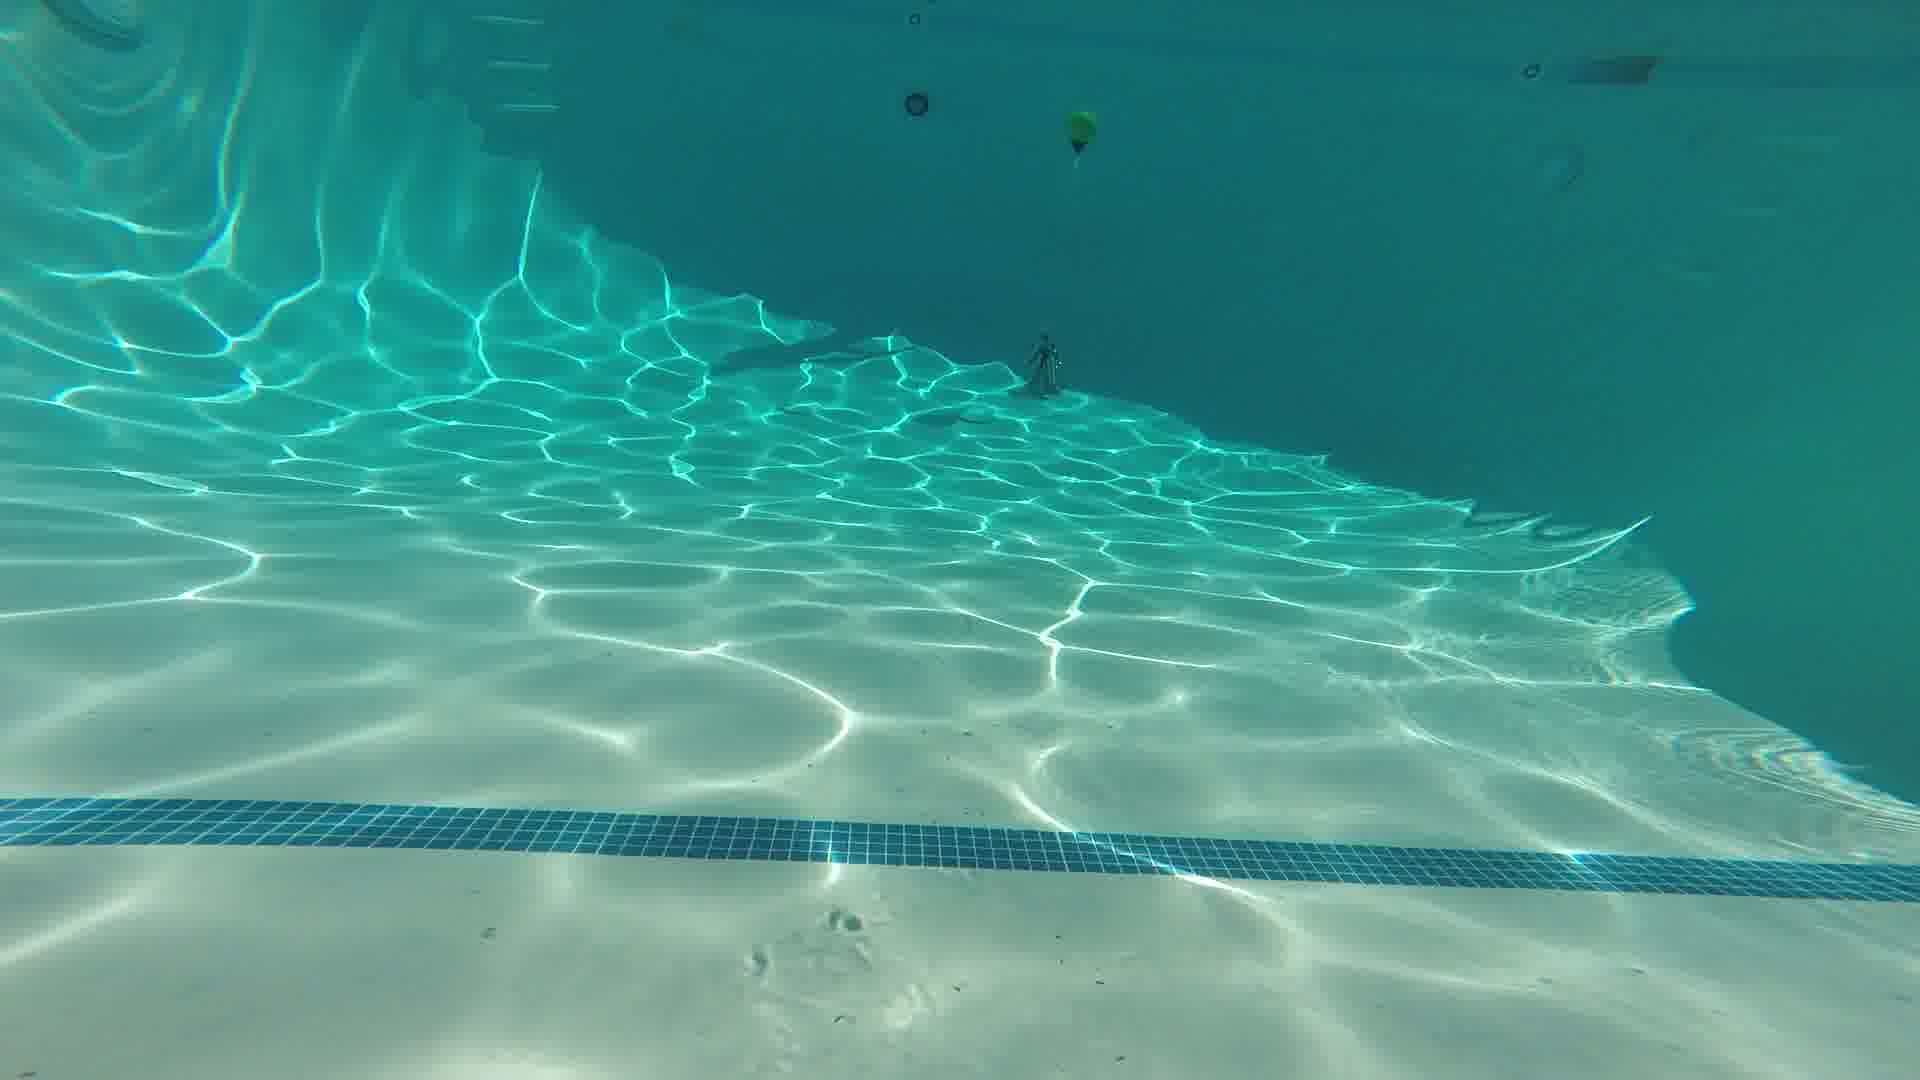yellow_buoy: (1060, 102, 1098, 167)
